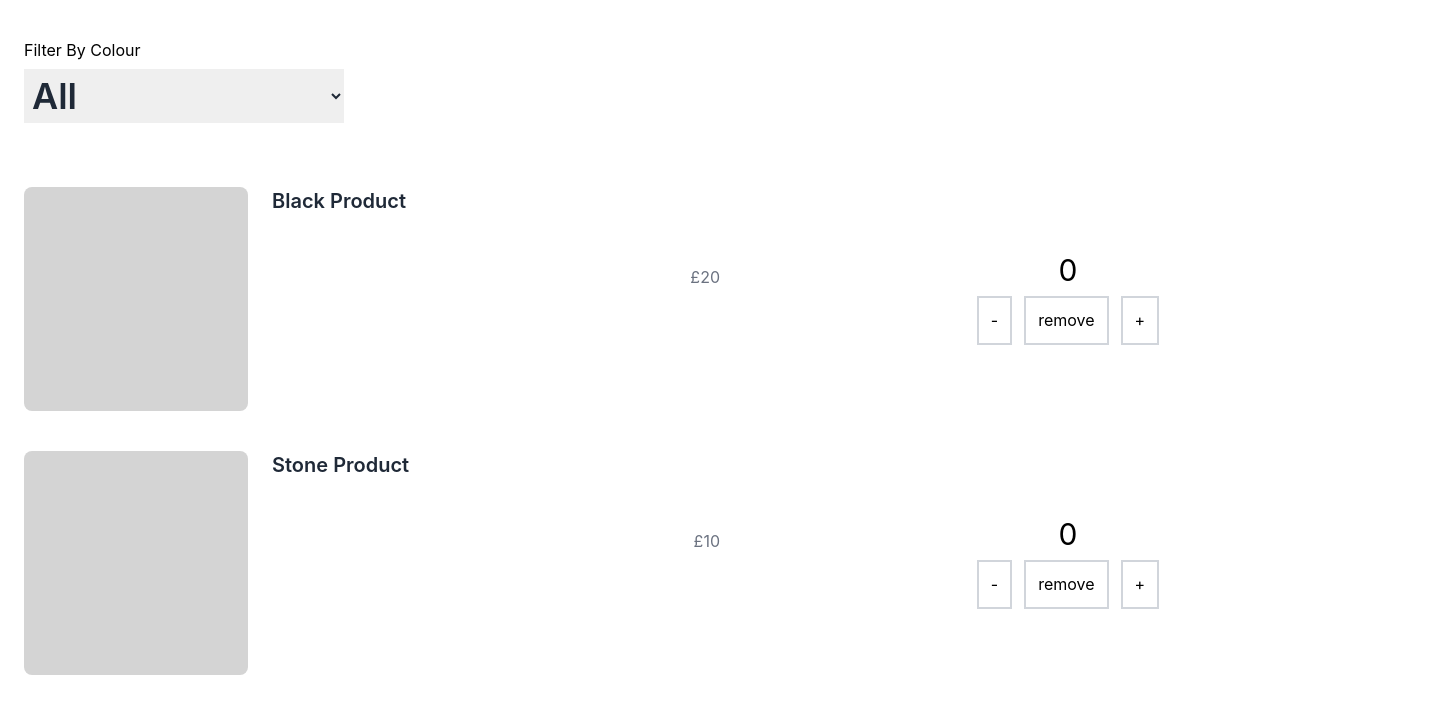
Product filter integration tests › only show black color products when black filter is applied
Select "Black" in the dropdown at (184, 96), box [24,69,344,123]
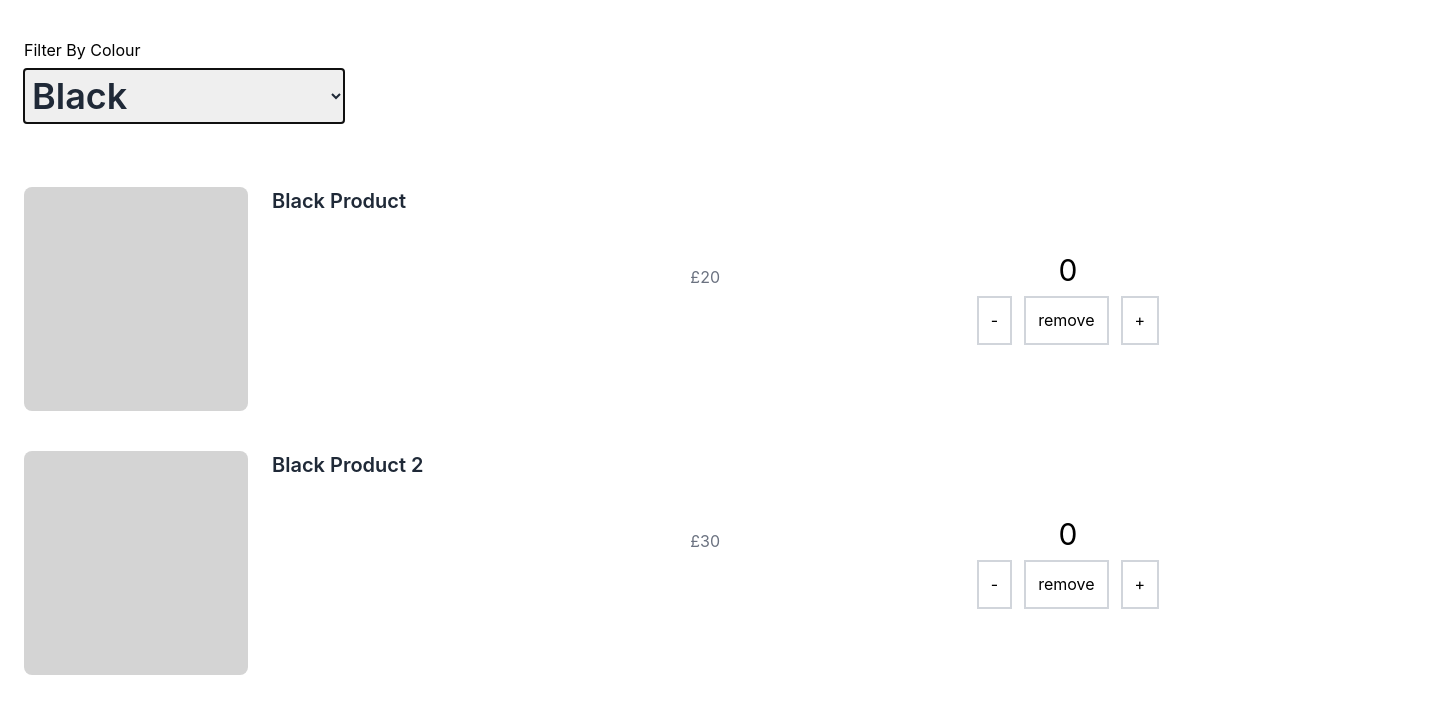
Expected: the number of elements with test id "product" is 2, [24,187,1159,411]; [24,451,1159,675]
